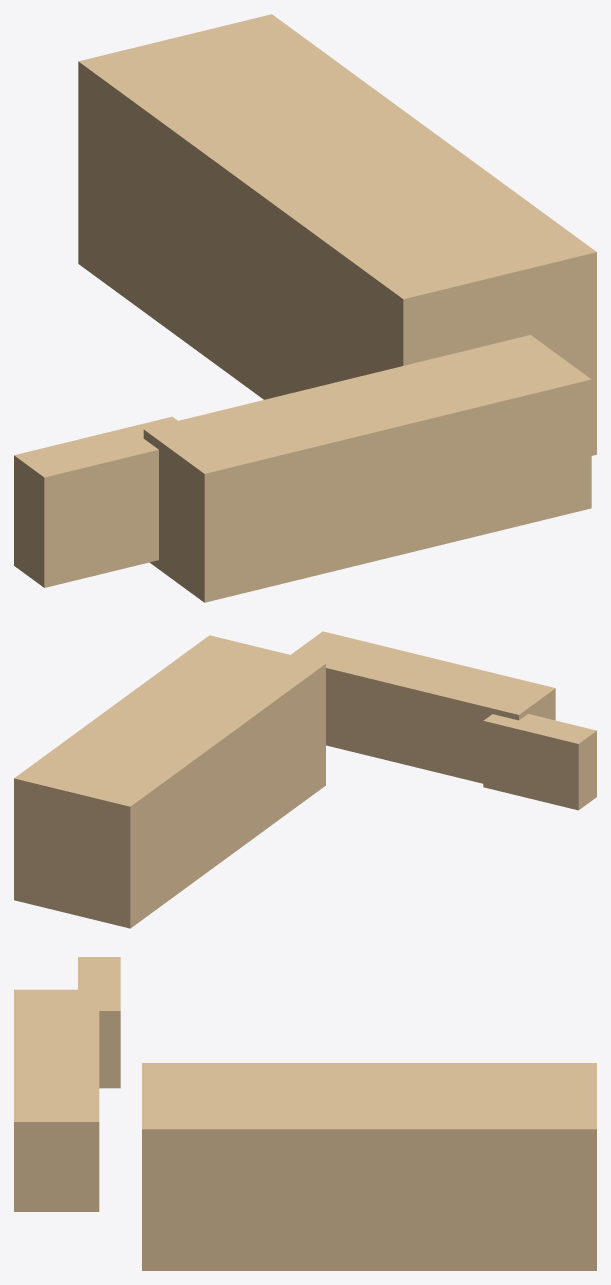
File: robot_l1.glb
3 renders of one model, top to bottom at view 1: azimuth 30°, elevation 25°; view 2: azimuth 150°, elevation 25°; view 3: azimuth 270°, elevation 25°, orthographic. The views are drawn at different scales.
Visible parts, largest first — view 1: ROBOT; view 2: ROBOT; view 3: ROBOT.
Boxes of the visible parts, x1,y1,x2,y2 form: ROBOT: (14, 14, 596, 602); ROBOT: (14, 631, 596, 928); ROBOT: (14, 957, 596, 1270).
Size of the model in its own units: 0.34 by 0.11 by 0.41.
